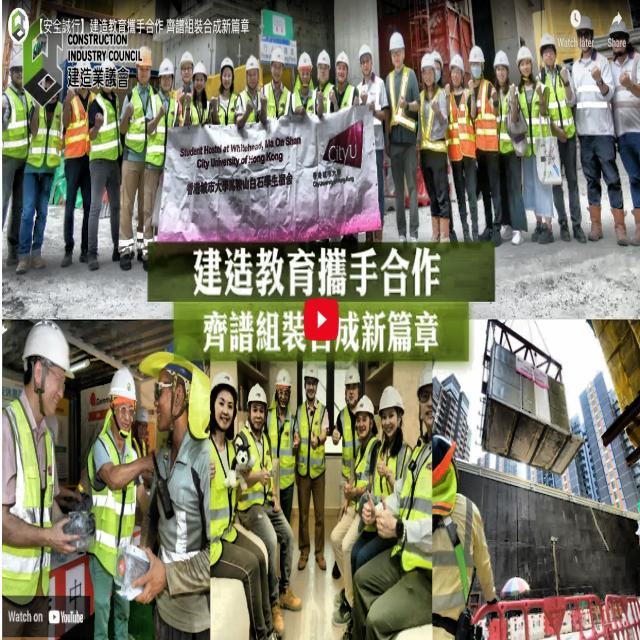safety_helmet: (146, 339, 213, 443), (18, 318, 82, 383), (424, 433, 458, 503), (104, 360, 138, 407), (213, 368, 240, 408), (413, 366, 438, 406), (244, 382, 270, 416), (376, 388, 404, 419), (270, 366, 298, 394), (294, 366, 327, 389), (350, 398, 377, 418), (341, 367, 364, 388)
safety_jacket: (2, 395, 63, 602), (78, 422, 138, 573), (424, 498, 485, 620), (396, 445, 440, 570), (208, 433, 239, 564), (295, 384, 337, 475), (365, 444, 414, 516), (265, 407, 301, 497), (239, 423, 274, 510), (333, 406, 370, 471), (347, 446, 382, 502)
